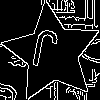J: (27, 28, 60, 78)
